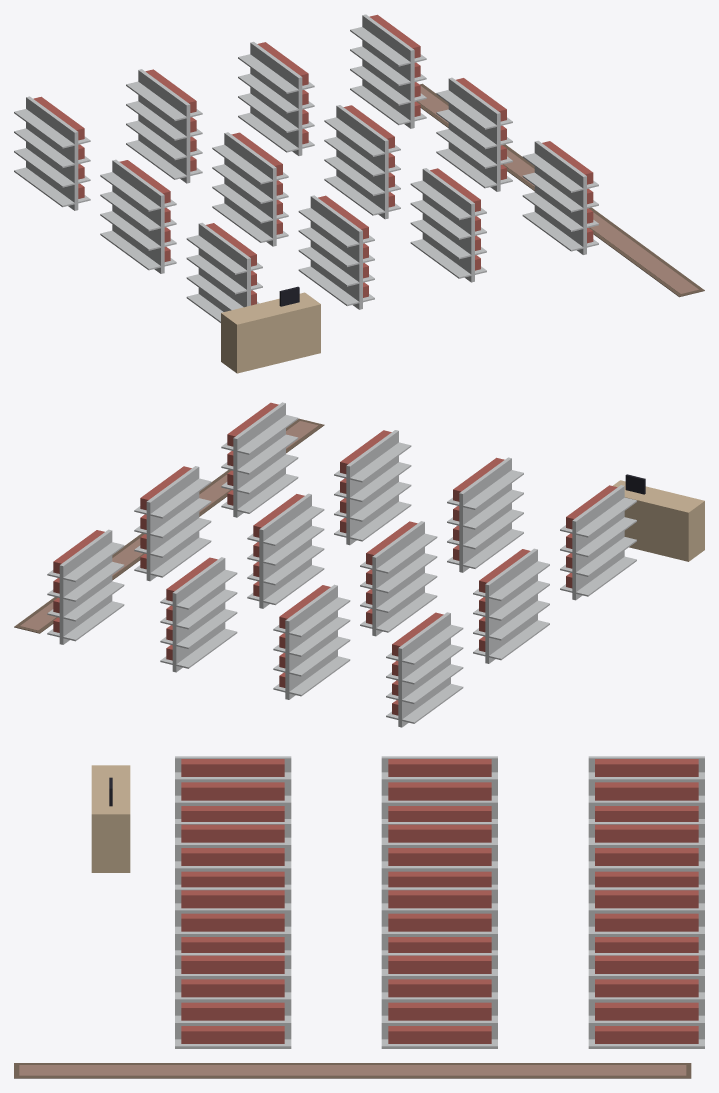
Rendered from fine-s0.glb.
3 views of the same model, one above another, from view 1: azimuth 30°, elevation 25°; view 2: azimuth 150°, elevation 25°; view 3: azimuth 270°, elevation 25° (orthographic). The views are drawn at different scales.
Visible parts, largest first — view 1: shop-counter.000, shelf.011, shelf.000, shelf.006, shelf.007, shelf.009, shelf.001, shelf.005, shelf.003, shelf.004, shelf.008, shelf.010 (+2 smaller); view 2: shelf.006, shelf.009, shelf.010, shelf.003, shelf.004, shelf.011, shelf.000, shelf.007, shelf.008, shelf.001, shelf.005, shelf.002 (+2 smaller); view 3: shelf.009, shelf.010, shelf.011, soft-s0, shelf.000, shelf.001, shelf.002, shelf.006, shelf.007, shelf.008, shelf.003, shelf.004 (+2 smaller).
Part boxes in pixels (<box>): shop-counter.000: <box>221,286,320,373</box>; shelf.011: <box>522,140,598,254</box>; shelf.000: <box>14,96,90,210</box>; shelf.006: <box>238,41,314,155</box>; shelf.007: <box>324,105,400,219</box>; shelf.009: <box>350,14,426,128</box>; shelf.001: <box>100,159,176,273</box>; shelf.005: <box>298,195,374,309</box>; shelf.003: <box>126,69,202,183</box>; shelf.004: <box>212,132,288,246</box>; shelf.008: <box>410,168,486,282</box>; shelf.010: <box>436,77,512,191</box>; shelf.006: <box>160,557,237,672</box>; shelf.009: <box>47,529,124,644</box>; shelf.010: <box>134,466,211,581</box>; shelf.003: <box>273,584,350,699</box>; shelf.004: <box>360,521,437,636</box>; shelf.011: <box>221,402,298,517</box>; shelf.000: <box>386,612,463,727</box>; shelf.007: <box>247,493,324,608</box>; shelf.008: <box>334,430,411,545</box>; shelf.001: <box>473,548,549,663</box>; shelf.005: <box>447,457,523,572</box>; shelf.002: <box>560,485,636,600</box>; shelf.009: <box>588,953,704,1048</box>; shelf.010: <box>381,953,497,1048</box>; shelf.011: <box>175,953,291,1048</box>; soft-s0: <box>14,1063,691,1078</box>; shelf.000: <box>588,756,704,821</box>; shelf.001: <box>381,756,497,821</box>; shelf.002: <box>175,756,291,821</box>; shelf.006: <box>588,887,704,952</box>; shelf.007: <box>381,887,497,952</box>; shelf.008: <box>175,887,291,952</box>; shelf.003: <box>588,822,704,887</box>; shelf.004: <box>381,822,497,887</box>.
Bounding box in the file's own units: 9.33 × 1.6 × 10.69.
